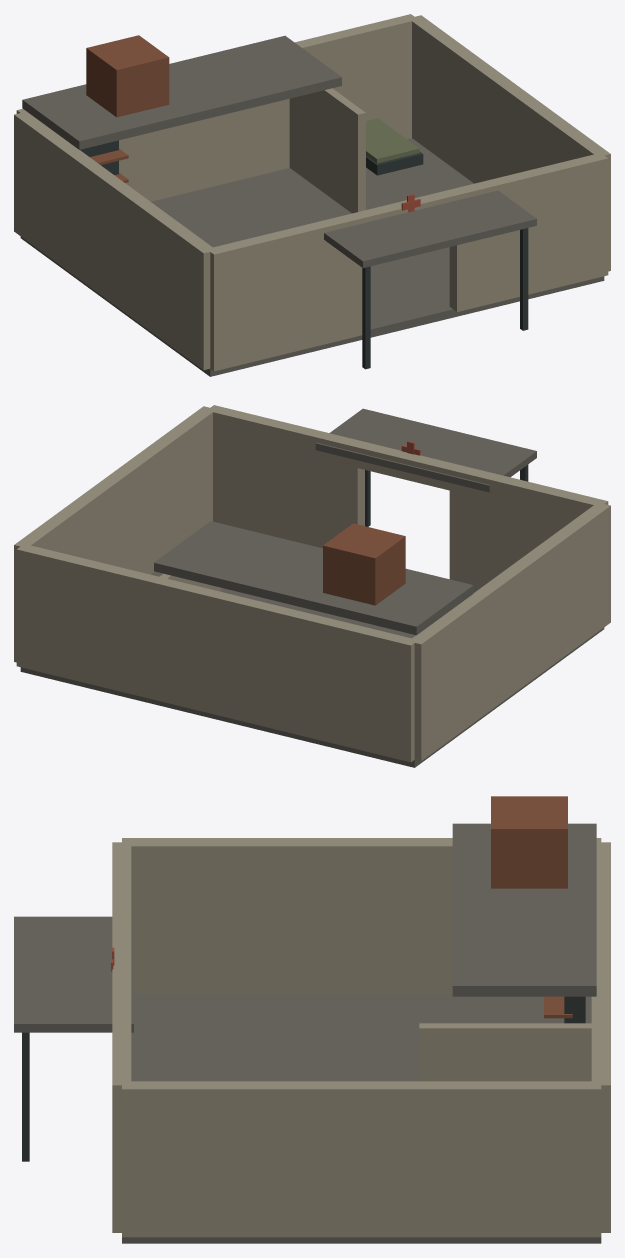
File: ruin_clinic.glb
3 views of the same model, one above another, from view 1: azimuth 30°, elevation 25°; view 2: azimuth 150°, elevation 25°; view 3: azimuth 270°, elevation 25° (orthographic). The views are drawn at different scales.
Parts seen in each view (by area): view 1: WALL_side.004, FLOOR_ground.002, WALL_back.002, WALL_front_pier.004, WALL_side.005, WALL_front_pier.005, roof_remnant.001, entry_canopy, WALL_exam_partition, roof_tank, exam_mattress, WALL_front_lintel.002 (+4 smaller); view 2: WALL_back.002, WALL_side.004, WALL_side.005, WALL_front_pier.005, roof_remnant.001, WALL_front_pier.004, entry_canopy, roof_tank, FLOOR_ground.002, WALL_front_lintel.002; view 3: WALL_side.005, WALL_side.004, FLOOR_ground.002, roof_remnant.001, entry_canopy, WALL_exam_partition, roof_tank, WALL_back.002, WALL_front_pier.005, WALL_front_pier.004, WALL_front_lintel.002, canopy_post.001.
Part boxes in pixels (x1,y1,x2,y2): WALL_side.004: (14, 111, 216, 370); FLOOR_ground.002: (20, 138, 604, 376); WALL_back.002: (16, 14, 417, 201); WALL_front_pier.004: (207, 212, 364, 371); WALL_side.005: (409, 15, 610, 271); WALL_front_pier.005: (449, 154, 608, 311); roof_remnant.001: (22, 35, 341, 149); entry_canopy: (324, 190, 536, 267); WALL_exam_partition: (289, 88, 365, 213); roof_tank: (86, 35, 169, 117); exam_mattress: (366, 118, 419, 163); WALL_front_lintel.002: (358, 189, 456, 222); WALL_back.002: (16, 545, 417, 762); WALL_side.004: (409, 502, 610, 761); WALL_side.005: (14, 406, 215, 662); WALL_front_pier.005: (208, 405, 364, 548); roof_remnant.001: (154, 521, 473, 635); WALL_front_pier.004: (449, 464, 608, 592); entry_canopy: (315, 408, 536, 492); roof_tank: (323, 523, 405, 605); FLOOR_ground.002: (20, 571, 604, 767); WALL_front_lintel.002: (357, 442, 456, 490); WALL_side.005: (122, 1081, 601, 1237); WALL_side.004: (122, 838, 601, 993); FLOOR_ground.002: (122, 994, 601, 1243); roof_remnant.001: (452, 823, 596, 996); entry_canopy: (14, 916, 133, 1032); WALL_exam_partition: (419, 1023, 591, 1081); roof_tank: (491, 796, 567, 888); WALL_back.002: (591, 842, 610, 1232); WALL_front_pier.005: (112, 992, 131, 1232); WALL_front_pier.004: (112, 842, 131, 935); WALL_front_lintel.002: (112, 935, 131, 992); canopy_post.001: (22, 1032, 29, 1161).
Size of the model in its own units: 12.4 by 5.44 by 12.45.
